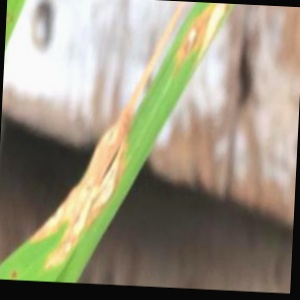Brown_Spot: (194, 0, 246, 44), (182, 23, 206, 54)
